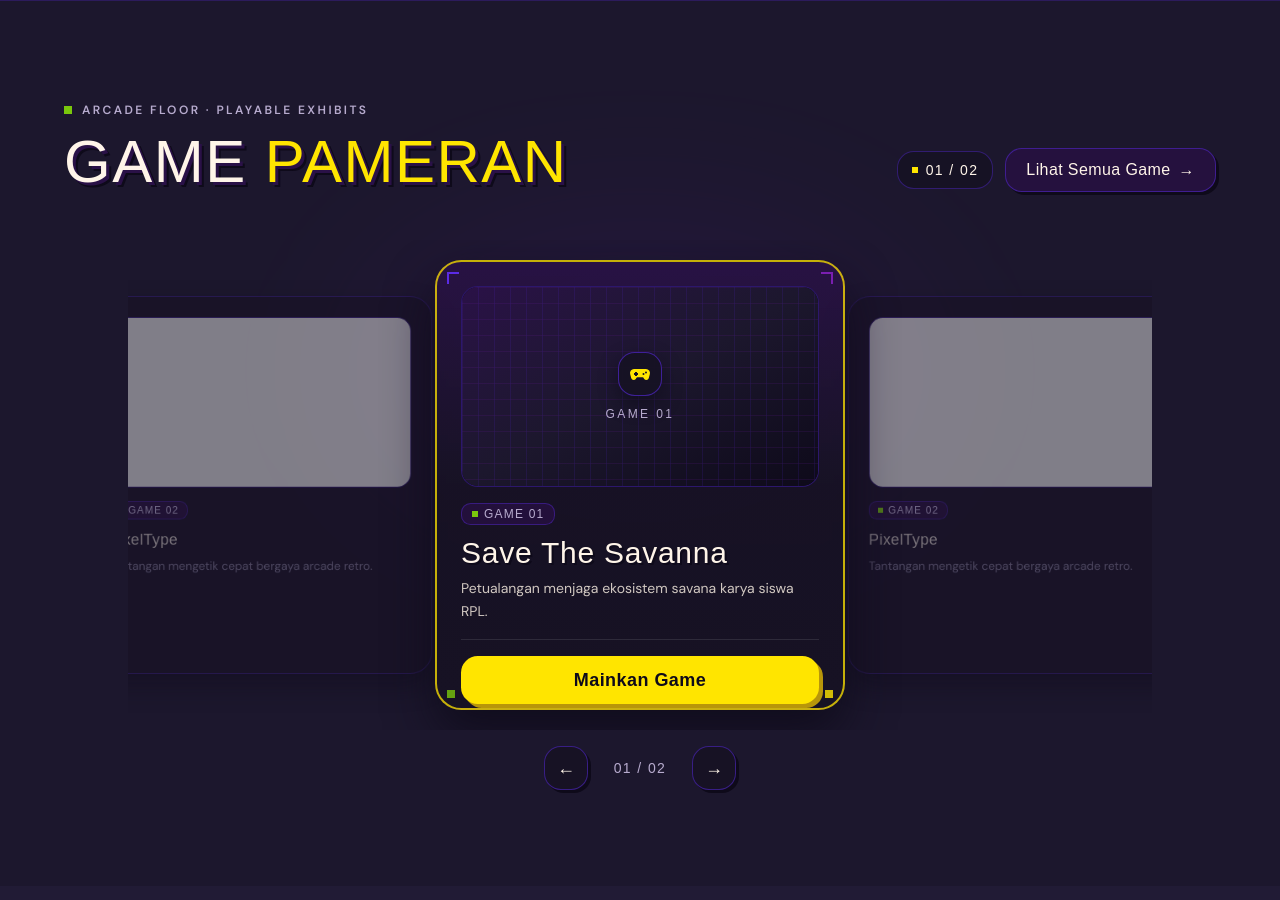
Test case: GameShowcase (Phase 2 dark-purple exhibition redesign) › renders real games, sanitizes dead legacy image paths without broken <img>, and navigates cleanly
Expected: the heading "GAME PAMERAN" is shown, [64, 133, 568, 192]
Expected: the heading "Save The Savanna" is shown, [461, 536, 728, 569]
Click the button named "Game Berikutnya" at x=714, y=768, box [692, 746, 736, 790]
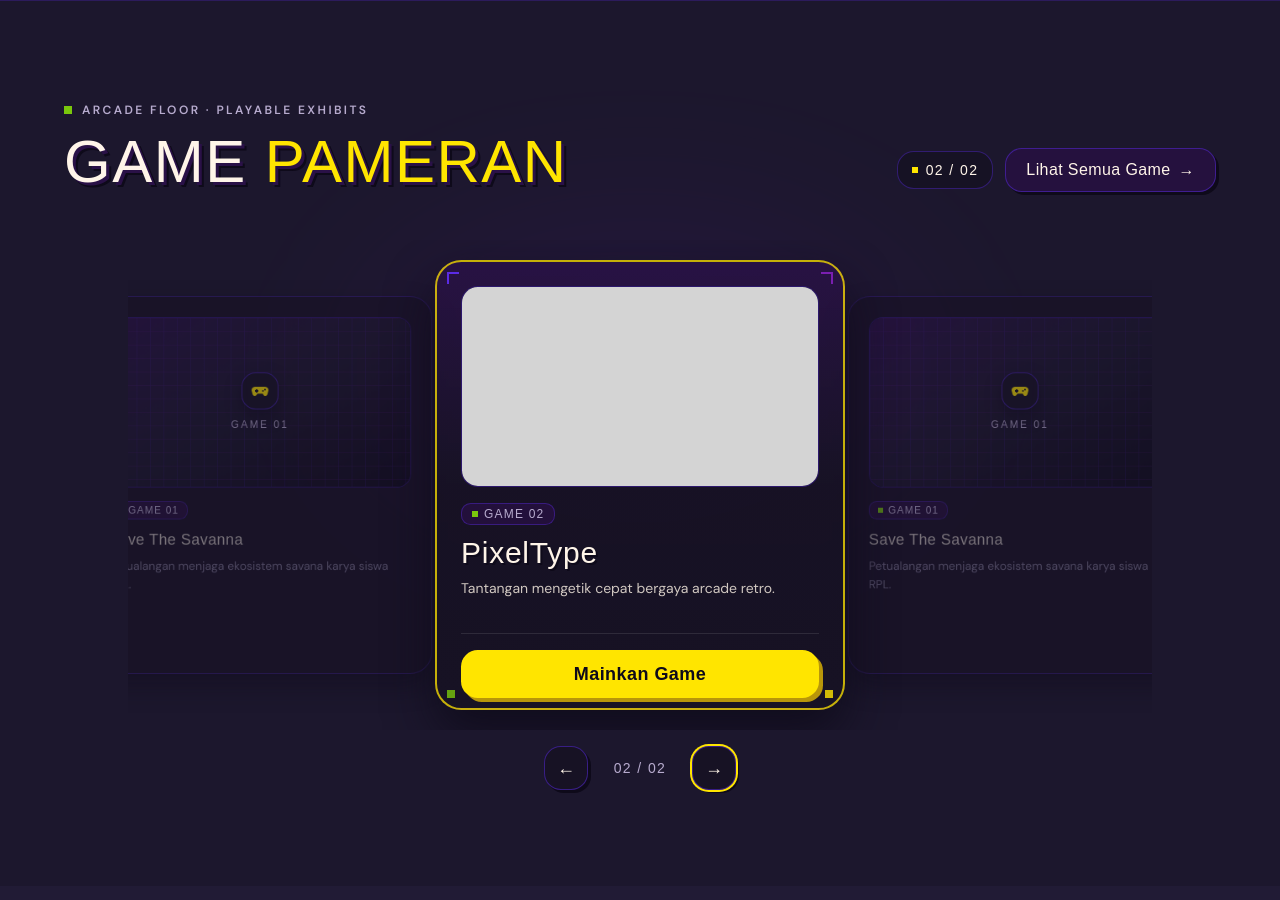
Result: the link "Mainkan Game" has attribute href="/games/pixeltype" at [461, 650, 819, 698]
